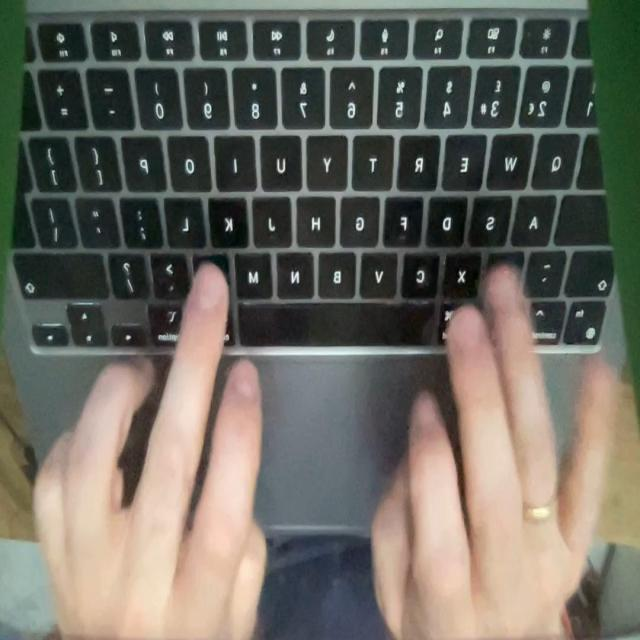keyboard-with-hands: (2, 0, 627, 536)
